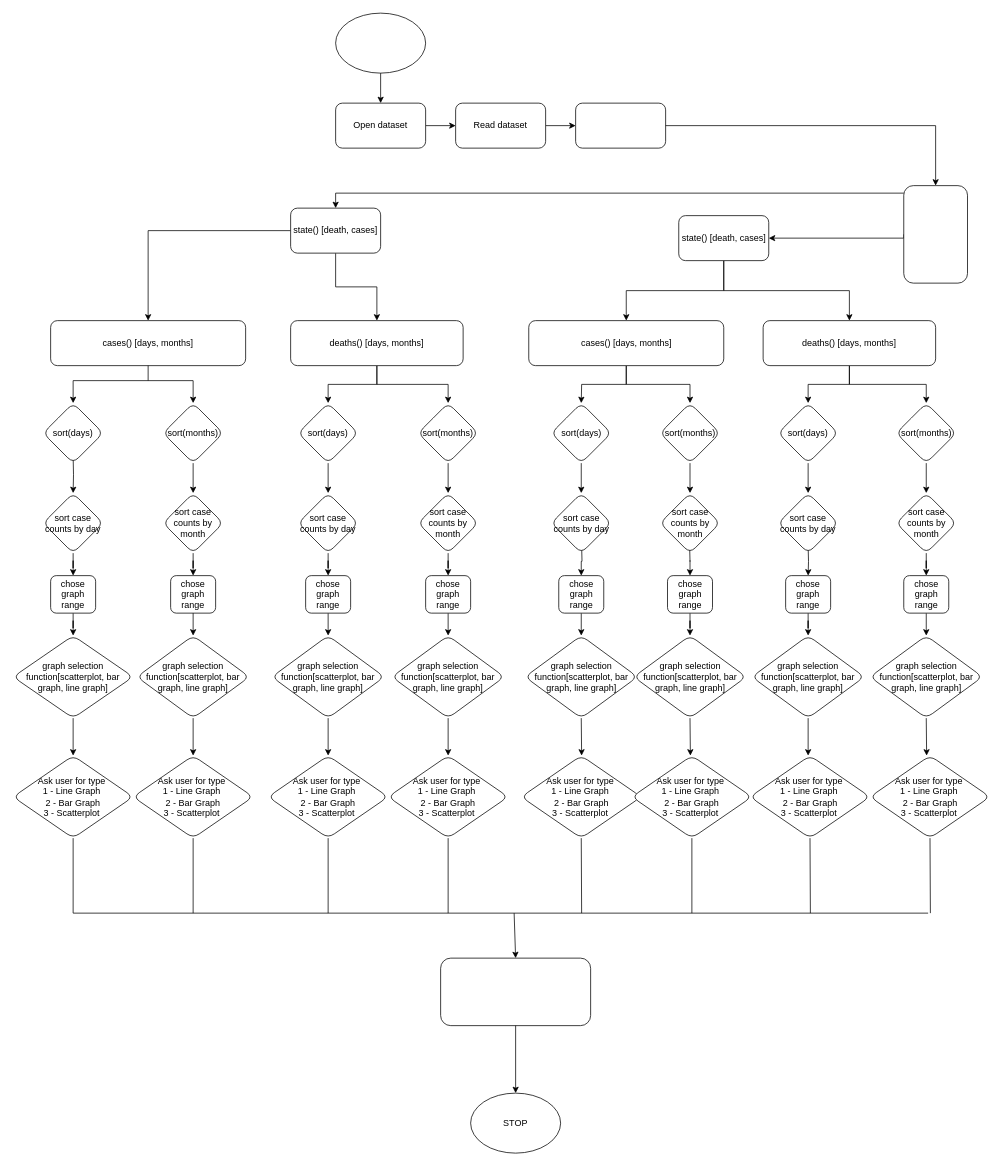
The diagram is 1004 pixels wide and 1166 high, and some of its shapes have lost their labels. Each missing label, with the centre of its shape:
"index values" belongs at [620,125].
"Present user with their chosen display type" belongs at [515,991].
"START" belongs at [380,42].
"User function selection [county, state]" belongs at [935,234].
